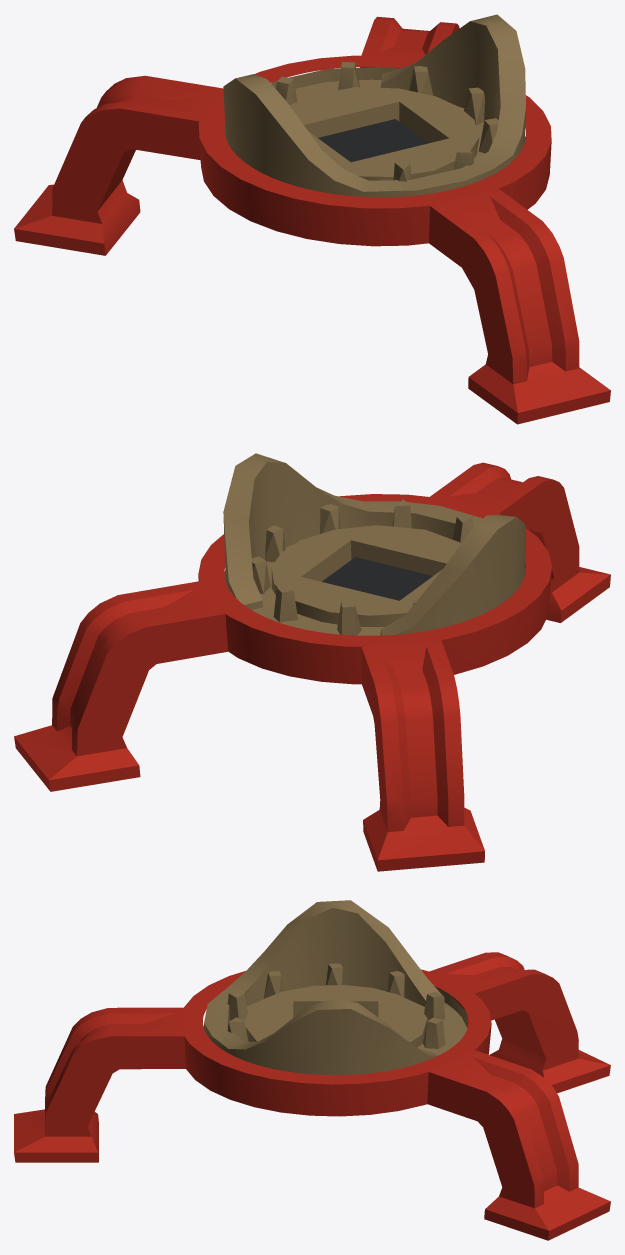
File: long-handed-inserter-south.glb
The picture shows the model from 3 angles, top to bottom: view 1: azimuth 30°, elevation 25°; view 2: azimuth 150°, elevation 25°; view 3: azimuth 270°, elevation 25°; orthographic projection. The views are drawn at different scales.
Visible parts, largest first — view 1: body; view 2: body; view 3: body.
Part boxes in pixels (x1=…): body: x1=14, y1=14, x2=610, y2=424; body: x1=14, y1=453, x2=610, y2=871; body: x1=14, y1=900, x2=610, y2=1240.
Size of the model in its own units: 0.9131 by 0.415 by 1.18.
